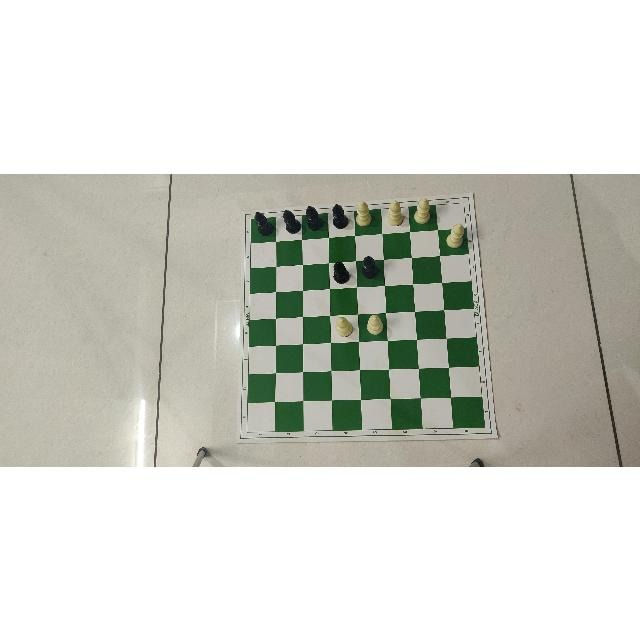black-bishop: (252, 209, 272, 235), (282, 207, 302, 232), (306, 204, 323, 230), (331, 202, 348, 227), (332, 259, 349, 283), (362, 255, 378, 279)
white-bishop: (355, 199, 373, 227), (386, 198, 403, 226), (447, 222, 465, 248), (334, 315, 353, 337), (366, 311, 384, 334), (415, 197, 431, 222)
